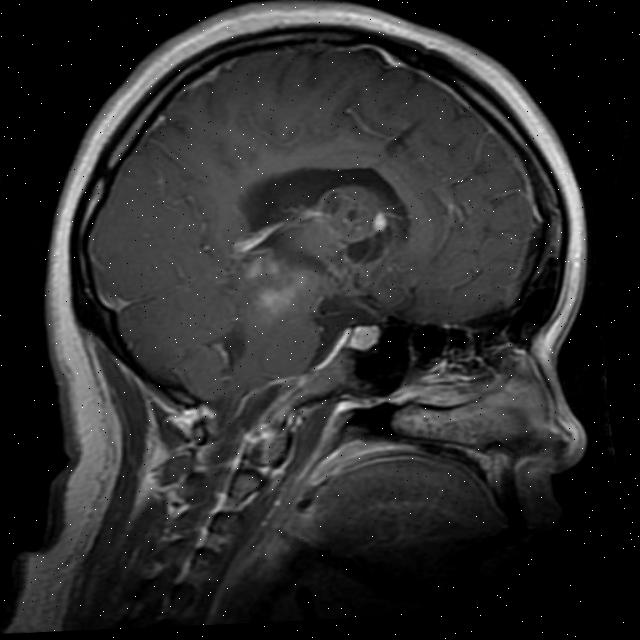Glioma: (241, 245, 318, 318), (313, 179, 390, 247)
Pituitary: (347, 322, 380, 352)
